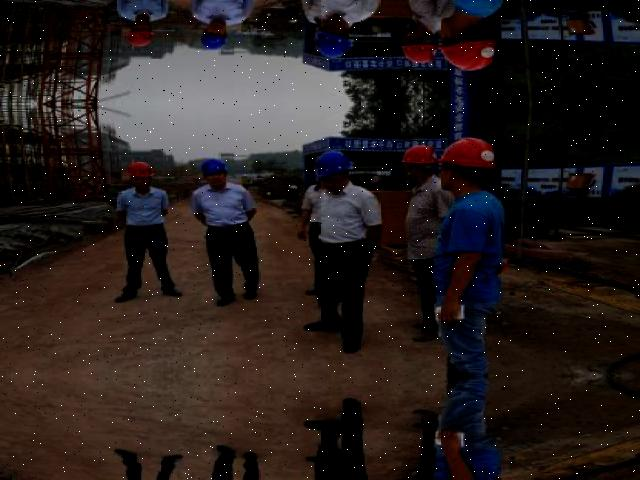Helmet: (437, 133, 501, 176), (310, 147, 356, 182), (393, 142, 436, 169), (119, 158, 156, 179), (194, 156, 228, 177)
